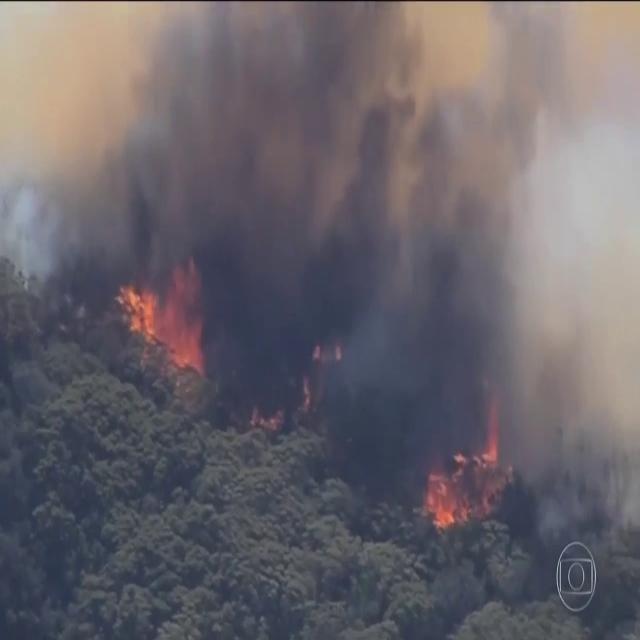Fire: (118, 255, 204, 381), (424, 400, 498, 530)
Smoke: (1, 1, 640, 554)
